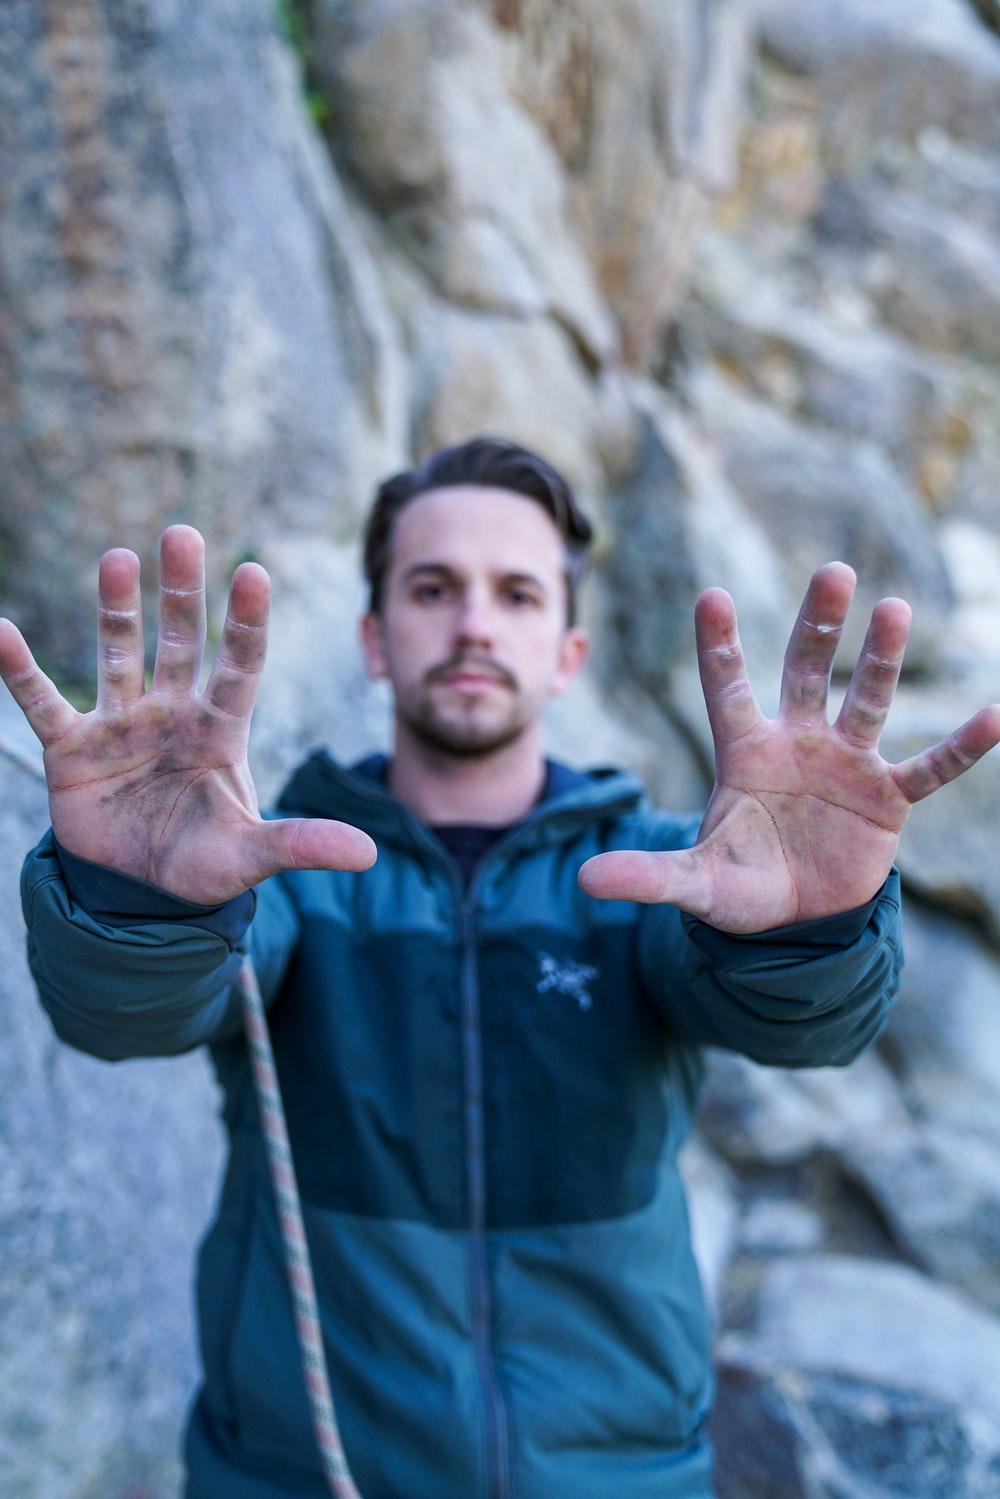palm: (712, 730, 910, 953), (35, 712, 262, 903)
